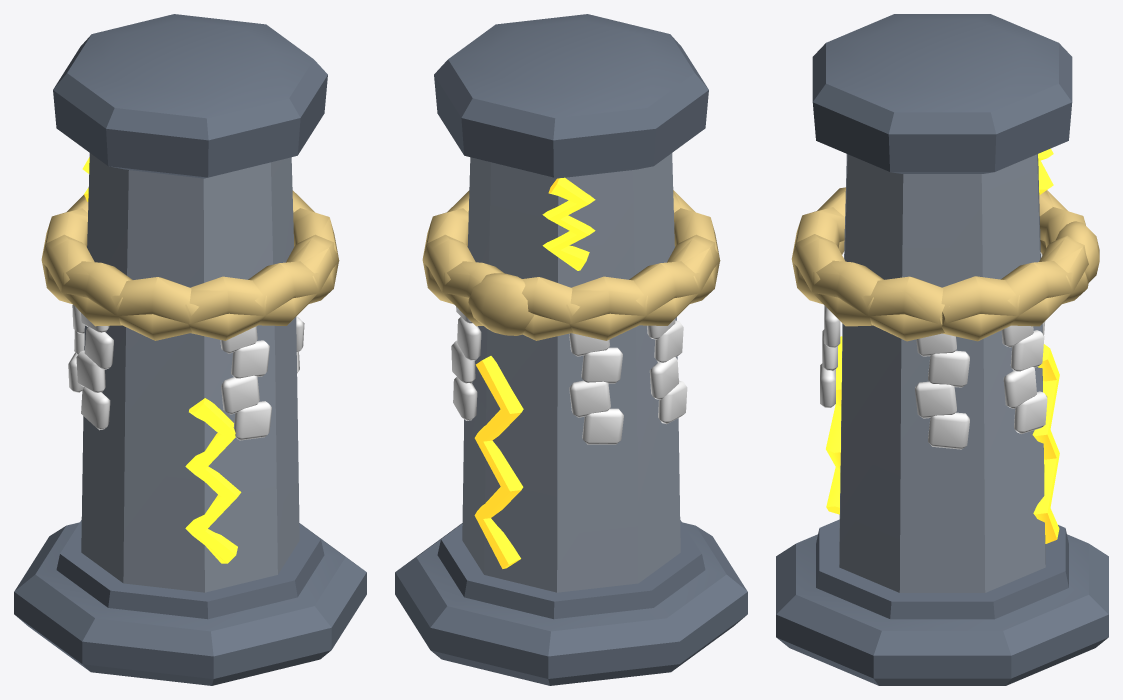
File: Equip_stone_pillar.glb
The picture shows the model from 3 angles, left to right: view 1: azimuth 30°, elevation 25°; view 2: azimuth 150°, elevation 25°; view 3: azimuth 270°, elevation 25°; orthographic projection.
Parts seen in each view (by area): view 1: DarkStone_6B7686, Stone_9AA4B2, Rope_F4D58A, Paper_FFFFFF, CrackGlow_FFA21F; view 2: DarkStone_6B7686, Stone_9AA4B2, Rope_F4D58A, Paper_FFFFFF, CrackGlow_FFA21F; view 3: DarkStone_6B7686, Stone_9AA4B2, Rope_F4D58A, Paper_FFFFFF, CrackGlow_FFA21F.
Part boxes in pixels (<box>): DarkStone_6B7686: <box>14,14,366,685</box>; Stone_9AA4B2: <box>81,153,299,592</box>; Rope_F4D58A: <box>41,190,339,340</box>; Paper_FFFFFF: <box>68,304,304,440</box>; CrackGlow_FFA21F: <box>82,157,241,563</box>; DarkStone_6B7686: <box>395,14,747,685</box>; Stone_9AA4B2: <box>462,153,680,592</box>; Rope_F4D58A: <box>422,190,720,340</box>; Paper_FFFFFF: <box>451,306,687,444</box>; CrackGlow_FFA21F: <box>474,177,595,568</box>; DarkStone_6B7686: <box>776,14,1108,685</box>; Stone_9AA4B2: <box>839,154,1045,592</box>; Rope_F4D58A: <box>791,187,1099,341</box>; Paper_FFFFFF: <box>820,253,1047,449</box>; CrackGlow_FFA21F: <box>826,148,1059,543</box>.
Size of the model in its own units: 4.62 by 8.7 by 4.62.
